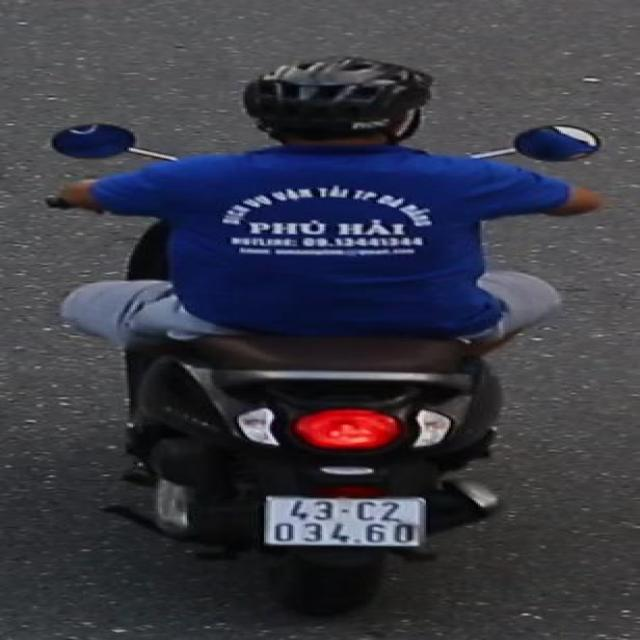LP: (259, 488, 435, 553)
helmet: (232, 58, 440, 168)
